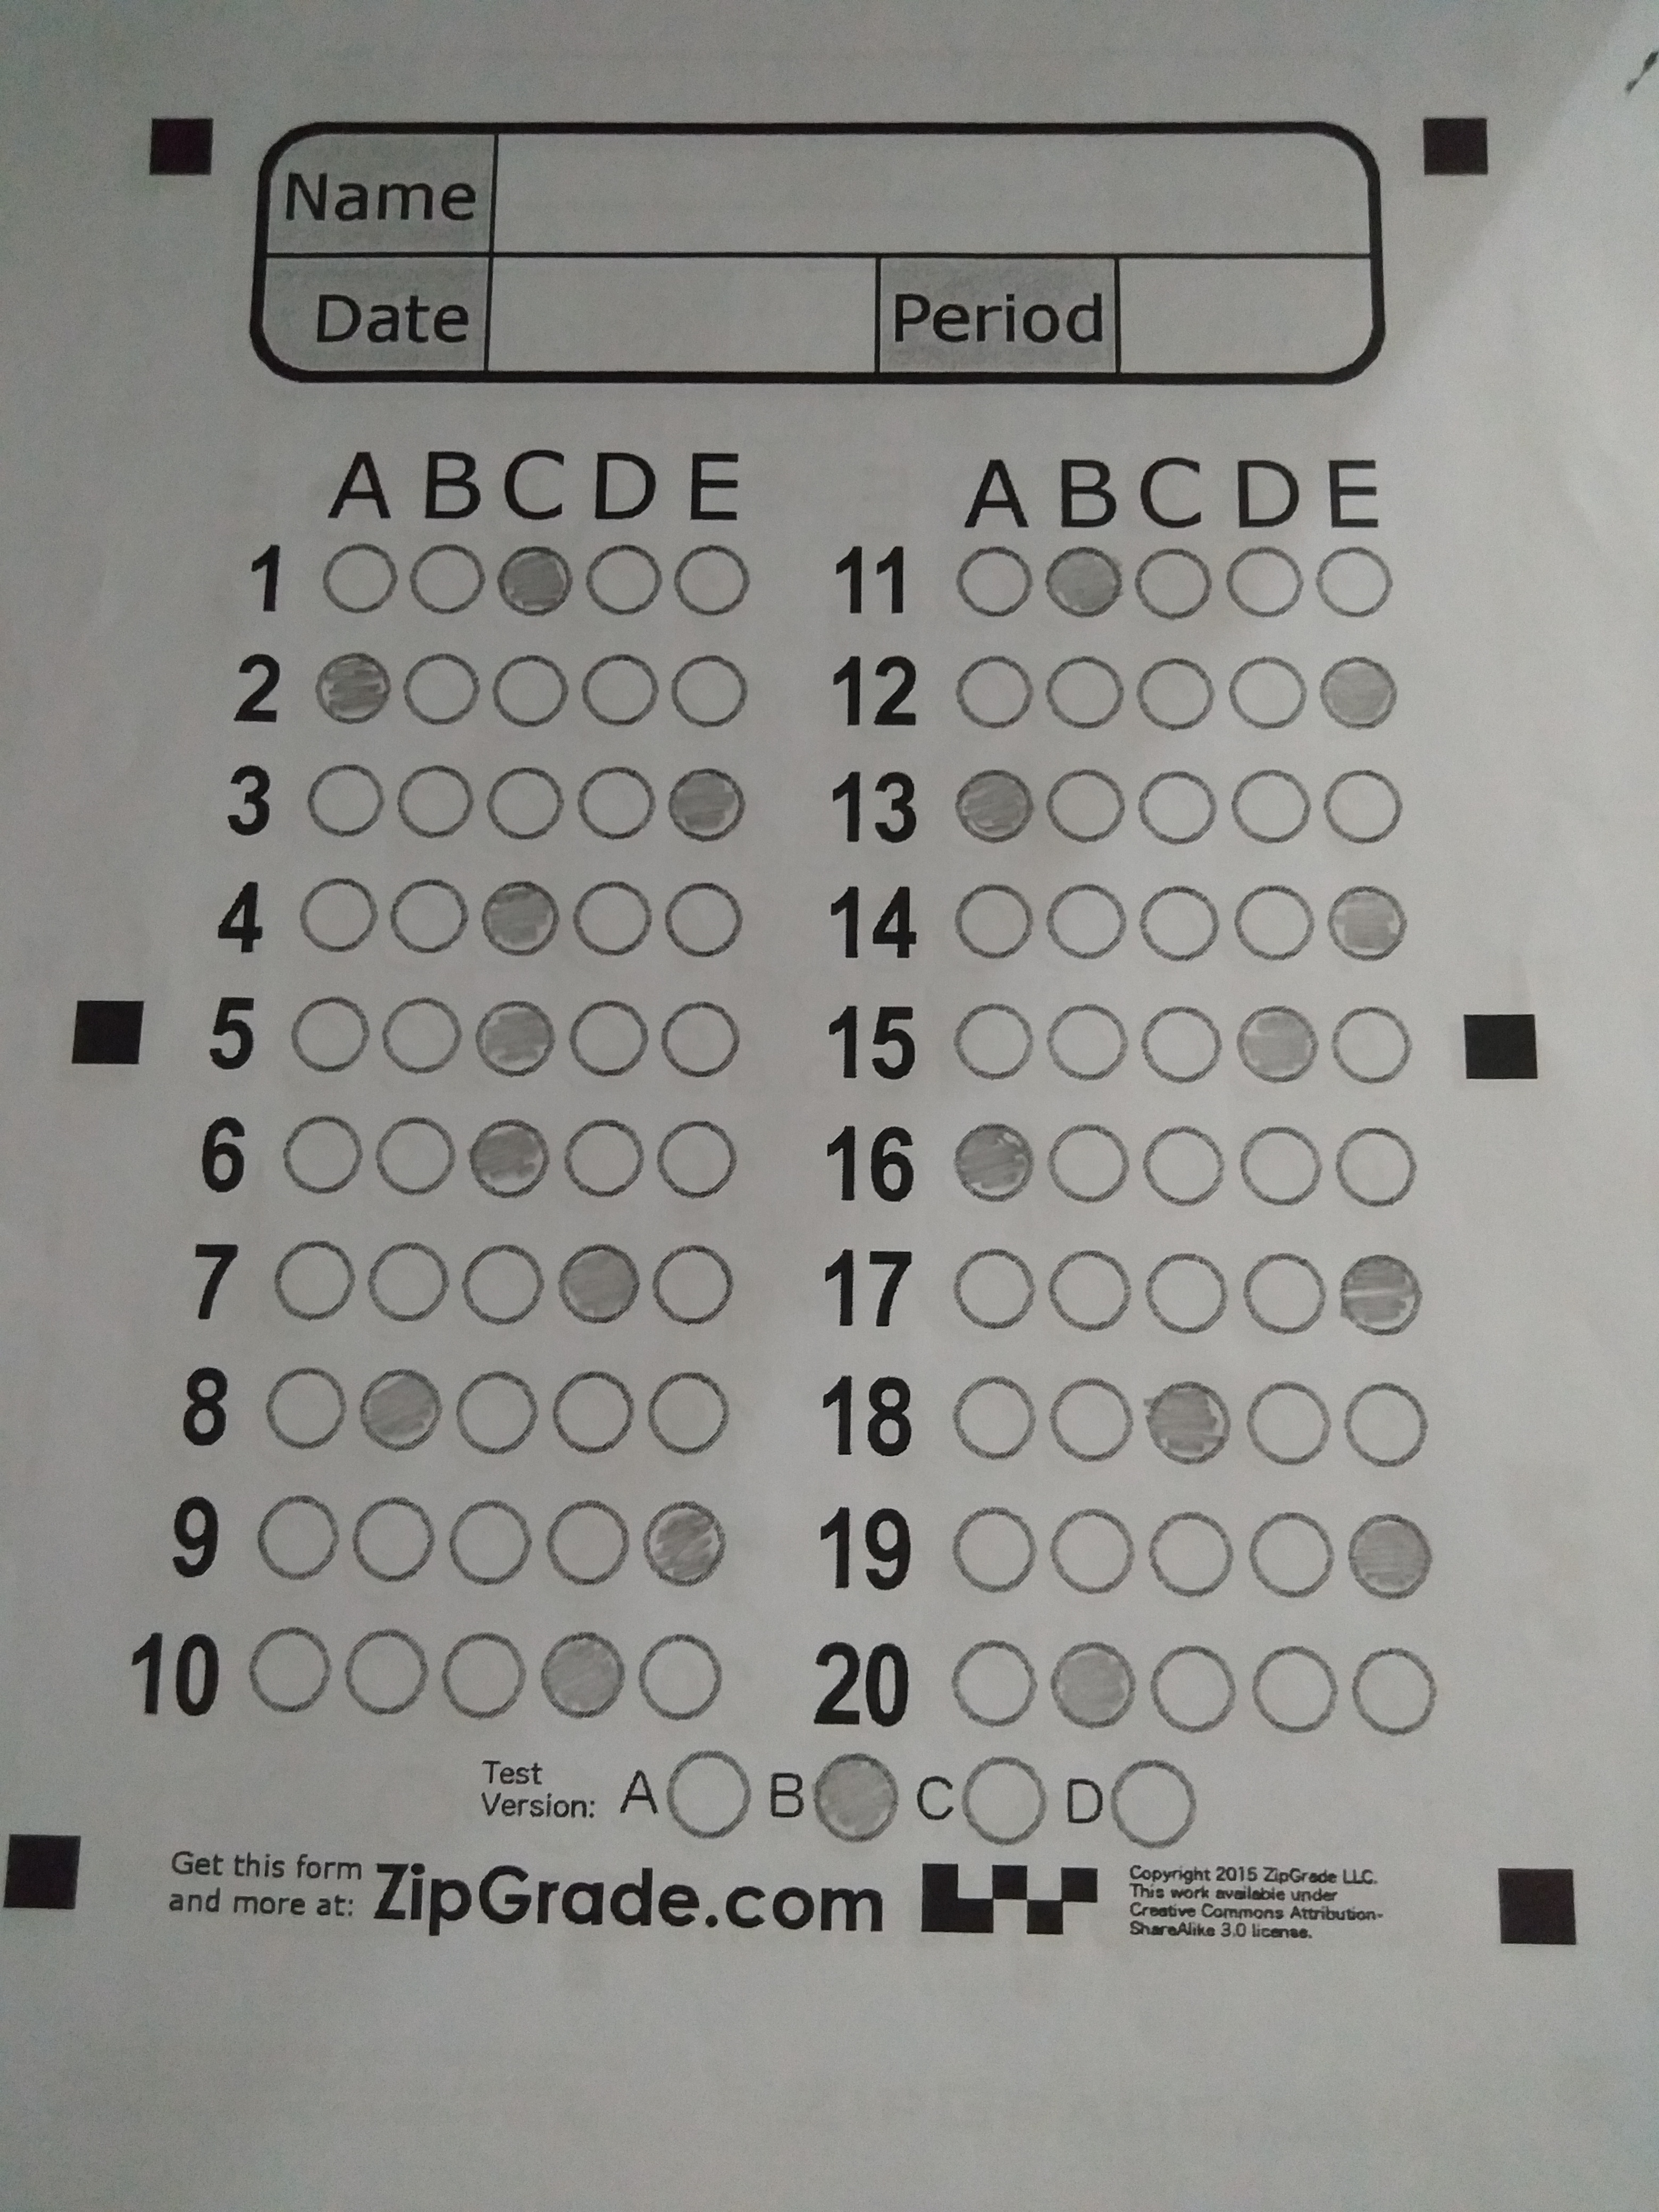not-c: (953, 1752, 1054, 1843), (666, 1747, 767, 1838), (945, 1372, 1046, 1463), (945, 1505, 1046, 1595), (427, 1630, 528, 1721), (636, 1629, 737, 1719), (641, 1372, 742, 1463), (540, 1367, 641, 1458), (251, 1360, 352, 1451), (1326, 1000, 1427, 1090), (1330, 1116, 1431, 1207), (1232, 1251, 1333, 1341), (1042, 1507, 1143, 1597), (1033, 993, 1134, 1083), (932, 538, 1033, 629), (1225, 881, 1326, 972), (1213, 542, 1314, 632), (1309, 545, 1410, 636), (1037, 644, 1138, 735), (1122, 535, 1223, 625), (946, 1244, 1046, 1334), (1131, 1251, 1230, 1341), (1039, 1372, 1138, 1463), (1241, 1376, 1340, 1467), (1241, 1510, 1340, 1601), (1239, 1642, 1338, 1733), (1342, 1379, 1441, 1470), (1352, 1644, 1452, 1735), (934, 641, 1033, 732), (939, 880, 1039, 970), (1035, 1122, 1134, 1212), (1220, 765, 1319, 855), (1218, 655, 1317, 745), (1317, 768, 1417, 859), (1103, 1759, 1204, 1848), (945, 1641, 1046, 1730), (1133, 1122, 1234, 1211), (1230, 1122, 1330, 1211), (1040, 1247, 1140, 1336), (1141, 1507, 1241, 1595), (1145, 1641, 1244, 1730), (936, 996, 1035, 1085), (446, 1498, 532, 1590), (343, 1627, 429, 1719), (349, 1496, 434, 1588), (247, 1627, 333, 1719), (662, 880, 756, 963), (289, 874, 383, 958), (671, 536, 765, 620), (254, 1493, 340, 1583), (540, 1498, 626, 1588), (458, 1372, 544, 1463), (662, 996, 755, 1080), (671, 651, 763, 735), (279, 993, 371, 1076), (401, 535, 493, 618), (314, 540, 406, 624), (300, 761, 394, 843), (1136, 650, 1227, 733), (1133, 765, 1223, 848), (1140, 1001, 1230, 1085), (1131, 880, 1222, 963), (1042, 880, 1133, 963), (1042, 766, 1133, 848), (655, 1242, 737, 1322), (366, 1242, 448, 1322), (270, 1242, 352, 1322), (282, 1113, 364, 1193), (575, 765, 657, 845), (483, 761, 565, 841), (378, 998, 460, 1078), (375, 1120, 455, 1200), (586, 540, 667, 618), (462, 1247, 544, 1325), (653, 1120, 735, 1198), (565, 1118, 647, 1197), (568, 998, 650, 1076), (570, 880, 652, 958), (575, 655, 657, 733), (490, 653, 572, 732), (385, 876, 467, 954), (397, 759, 479, 838), (401, 648, 483, 726)
taken-c: (469, 873, 570, 963), (462, 996, 563, 1087), (460, 1115, 561, 1205), (349, 1366, 450, 1456), (633, 1501, 734, 1592), (1044, 1639, 1145, 1730), (528, 1630, 629, 1721), (1230, 1000, 1330, 1090), (1331, 1251, 1431, 1341), (1134, 1378, 1234, 1468), (1340, 1512, 1439, 1602), (805, 1752, 904, 1843), (552, 1242, 653, 1331), (941, 1115, 1042, 1204), (945, 763, 1044, 850), (1037, 540, 1131, 627), (490, 542, 584, 625), (660, 765, 756, 846), (1316, 650, 1405, 737), (310, 644, 401, 730), (1324, 885, 1412, 965)
